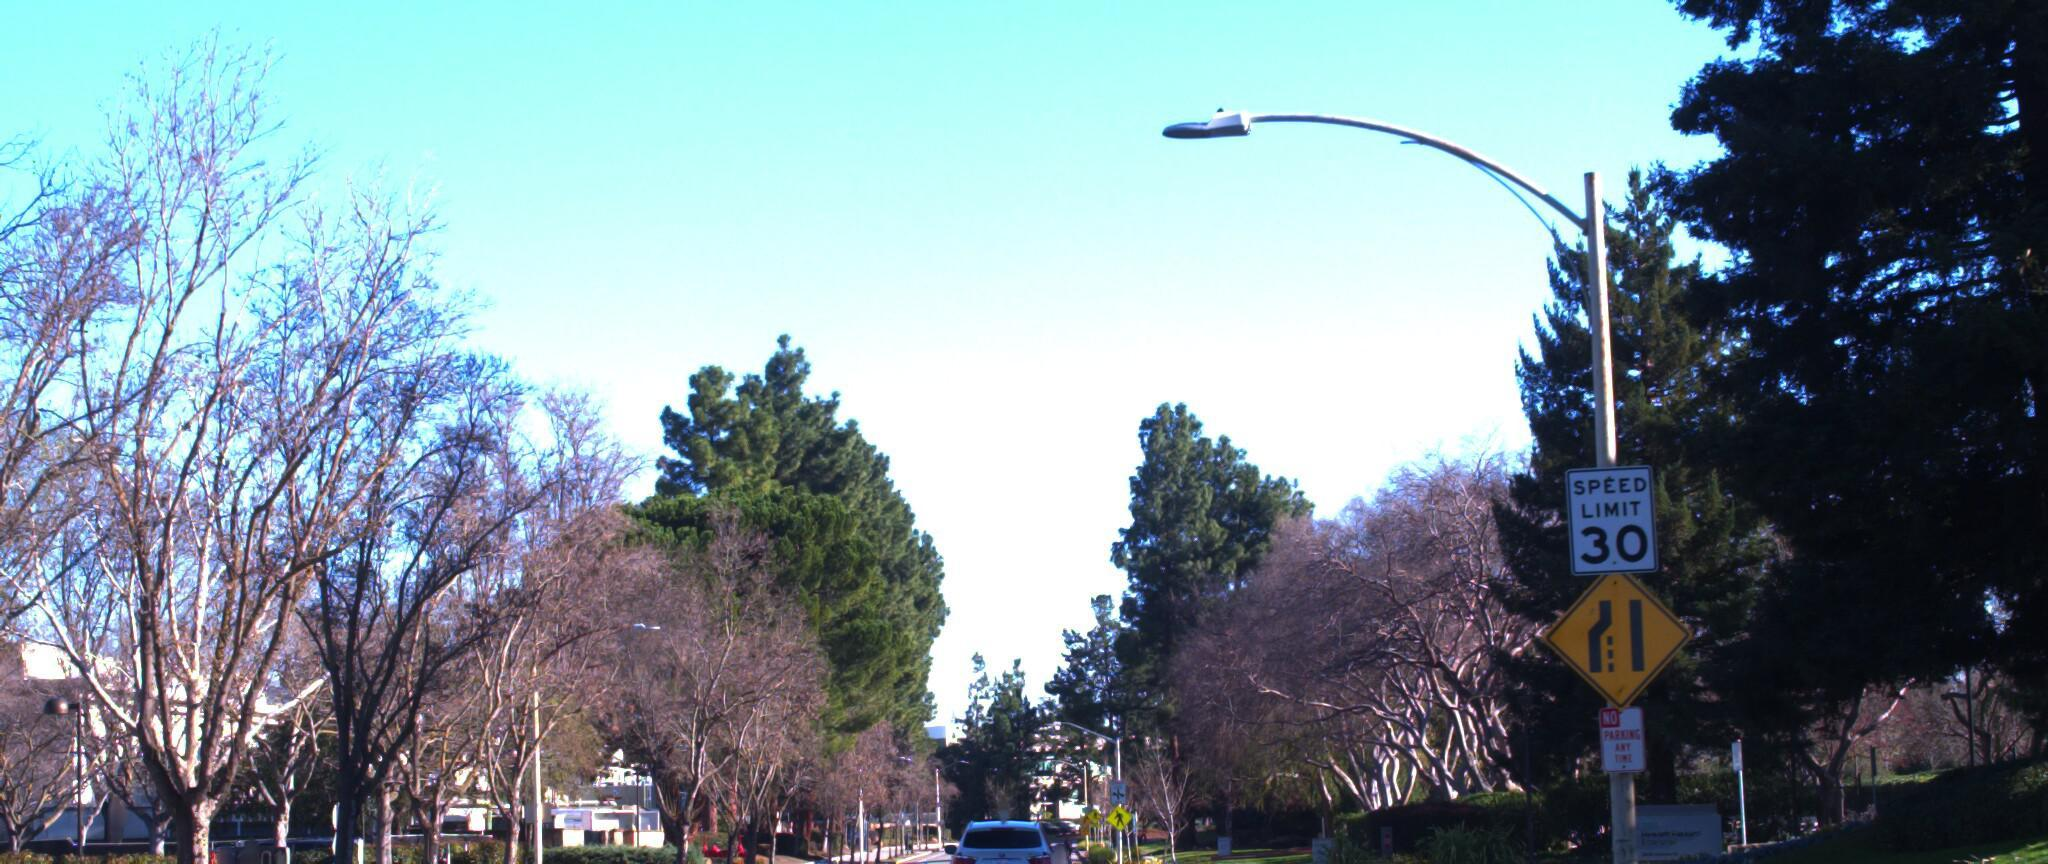car: (940, 794, 1058, 864)
